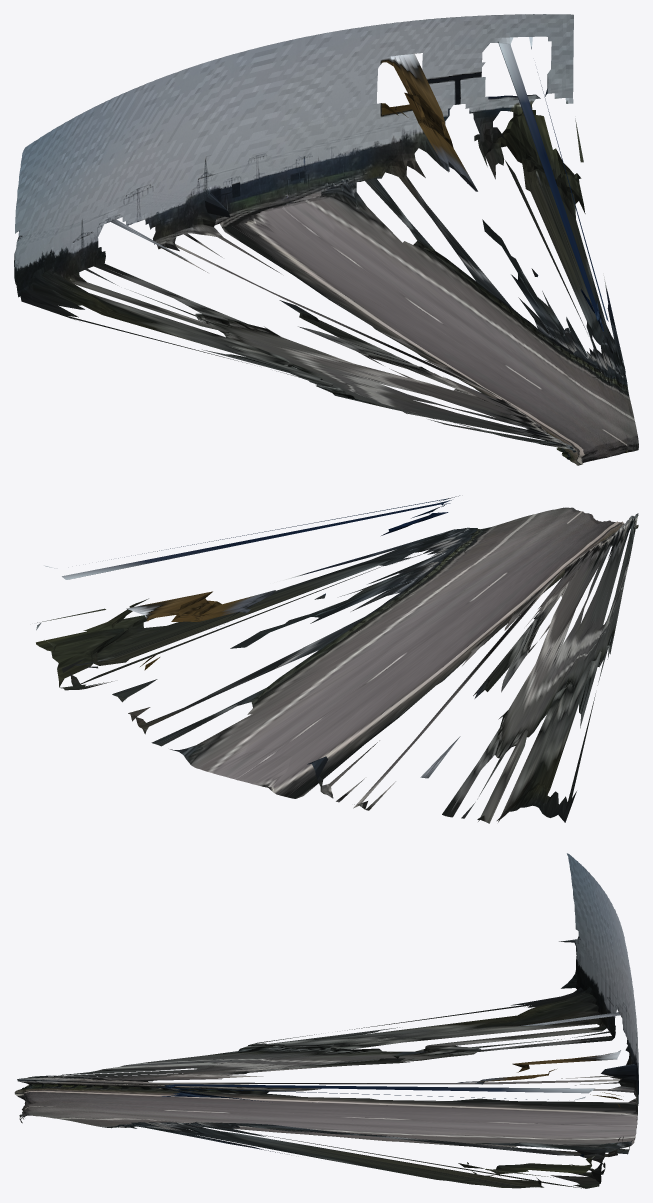
3 renders of one model, top to bottom at view 1: azimuth 30°, elevation 25°; view 2: azimuth 150°, elevation 25°; view 3: azimuth 270°, elevation 25°, orthographic. The views are drawn at different scales.
Visible parts, largest first — view 1: defaultobject; view 2: defaultobject; view 3: defaultobject.
Boxes of the visible parts, bbox=[...] form: defaultobject: bbox=[14, 14, 638, 465]; defaultobject: bbox=[36, 495, 638, 823]; defaultobject: bbox=[14, 853, 638, 1188].
Size of the model in its own units: 41.11 by 12.47 by 44.72.
Materials: 1 (1 with a texture image).
